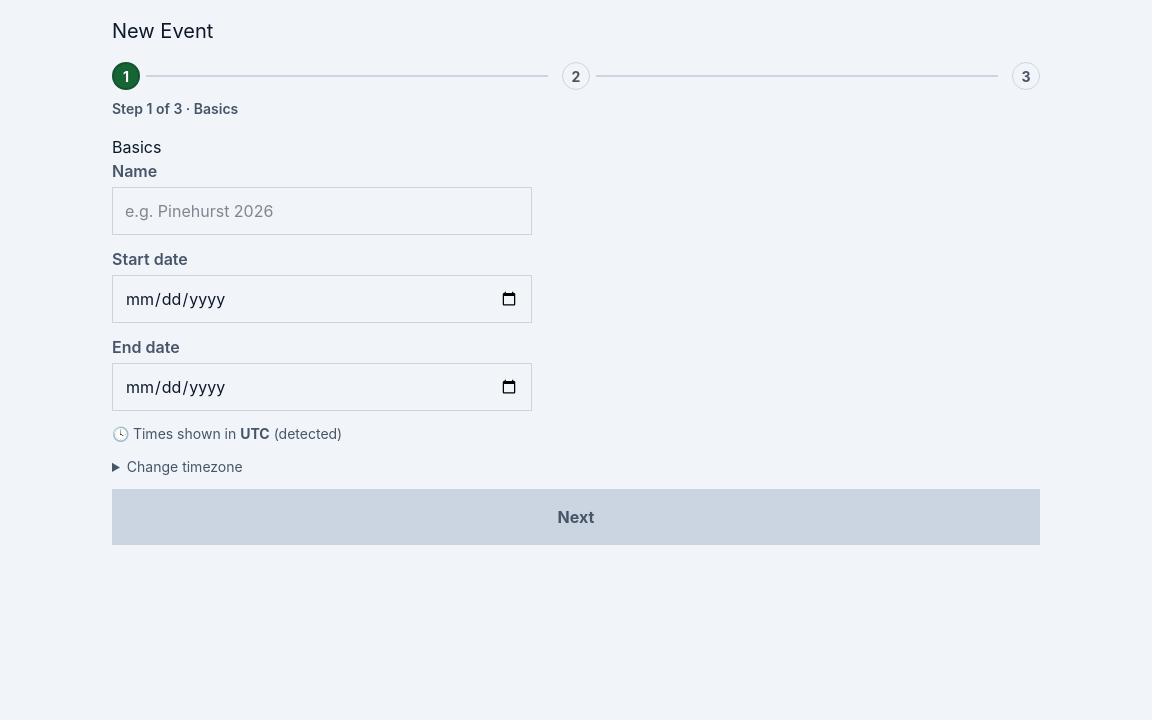
NewEventWizard › step transition: fill basics + click Next → step 2 visible; Back → step 1 with values preserved
The width and height of the screenshot is (1152, 720).
Type "Pinehurst 2026" into the field labelled "Name" at (322, 211), box [112,187,532,235]
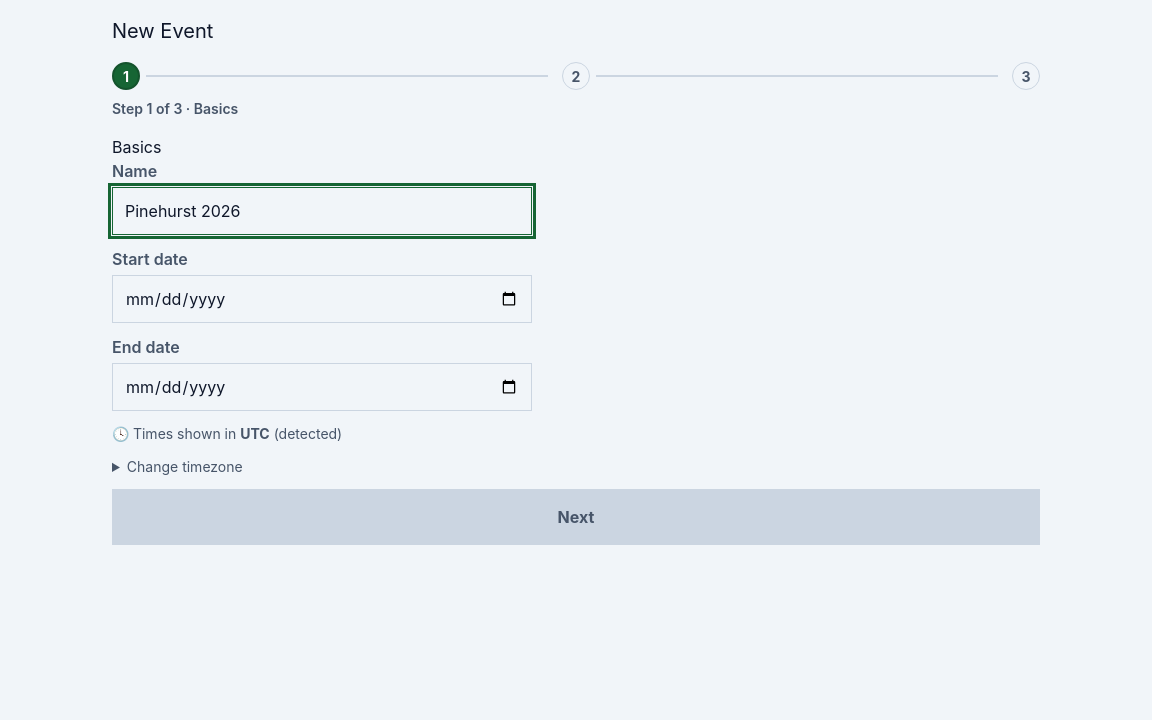
// Note: typing into a date input requires the YYYY-MM-DD format.
Type "2026-05-07" into the date field labelled "Start date" at (322, 299), box [112,275,532,323]
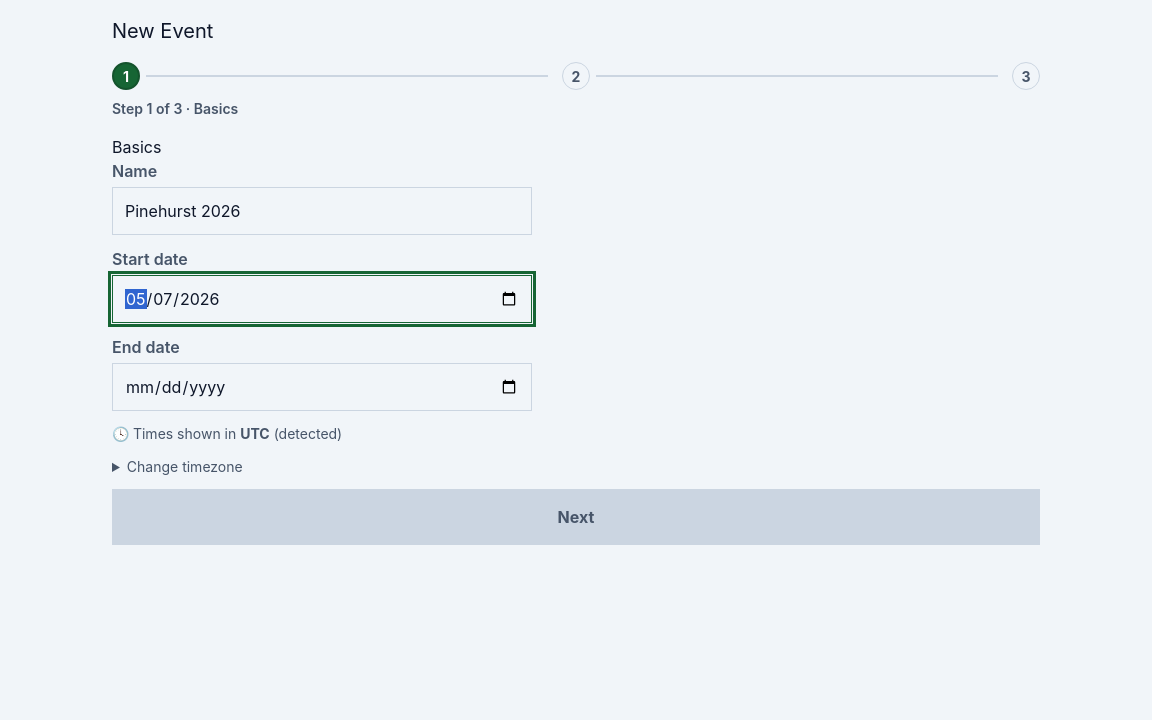
Type "2026-05-10" into the date field labelled "End date" at (322, 387), box [112,363,532,411]
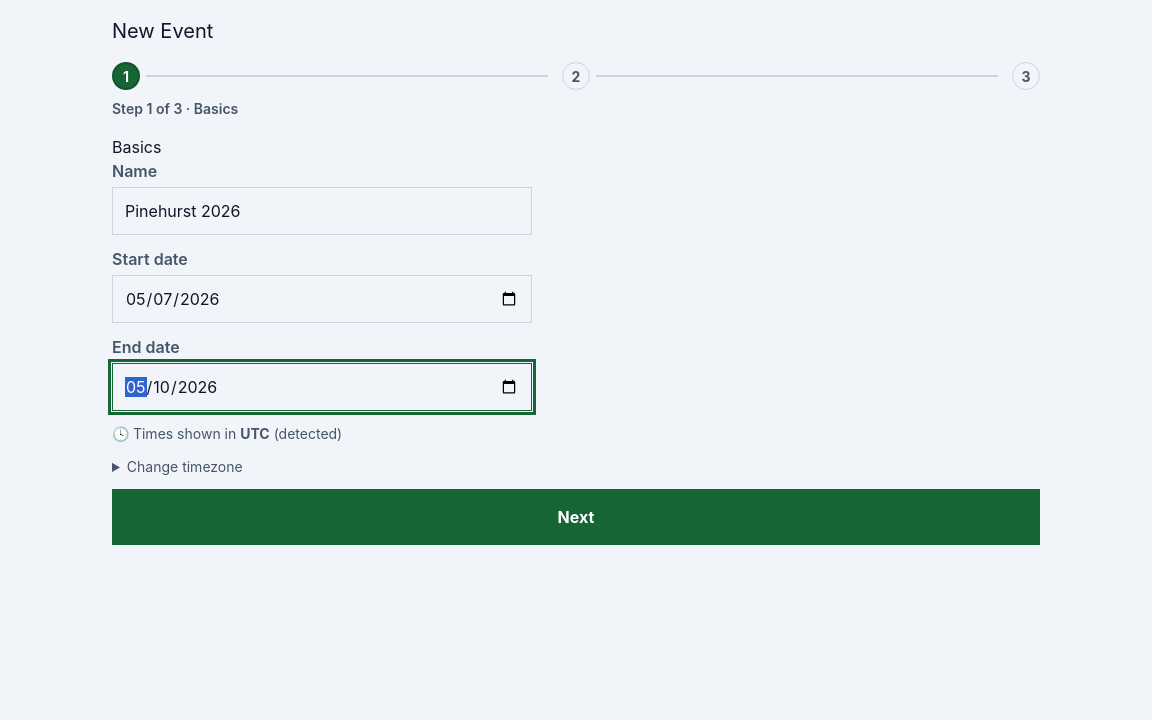
Expected: the button "Next" is enabled
Click the button "Next" at (576, 517), box [112,489,1040,545]
(page scrolled)
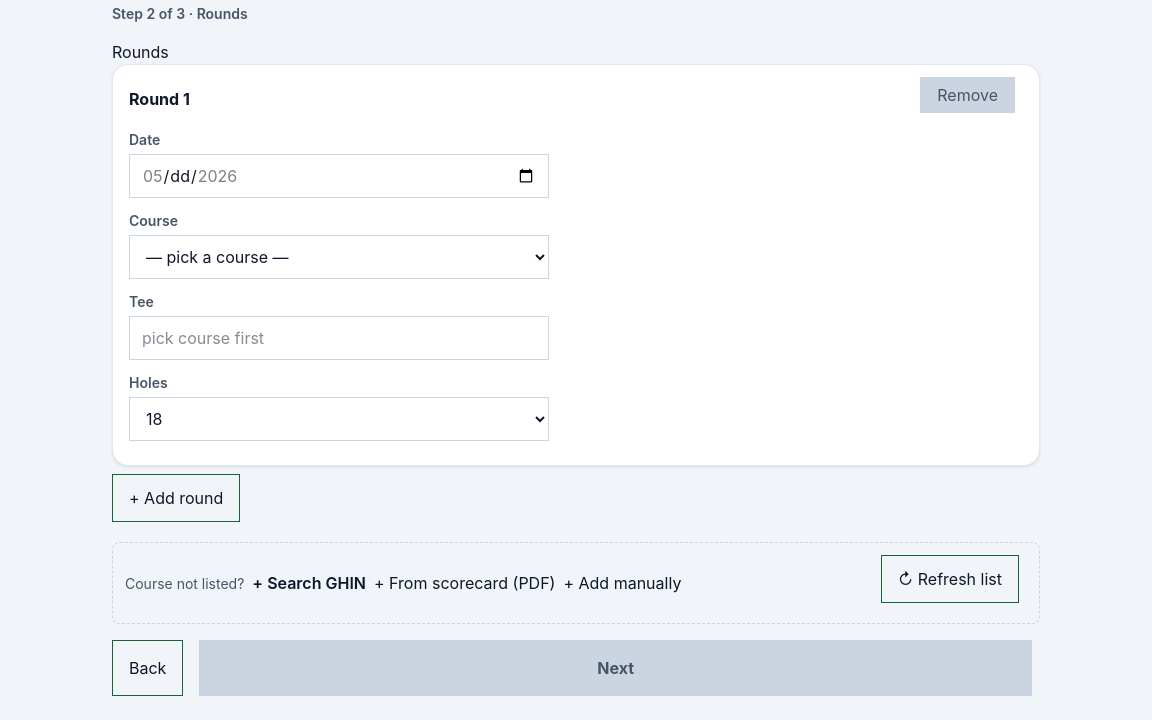
Expected: the text "Step 2 of 3 · Rounds" is shown, [112,5,248,22]
Expected: the heading "Rounds" is shown, [112,42,169,62]
Expected: the text "Course not listed?" is shown, [125,572,244,594]
// Back returns to step 1 with values preserved
Click the button "Back" at (148, 668), box [112,640,183,696]
(page scrolled)
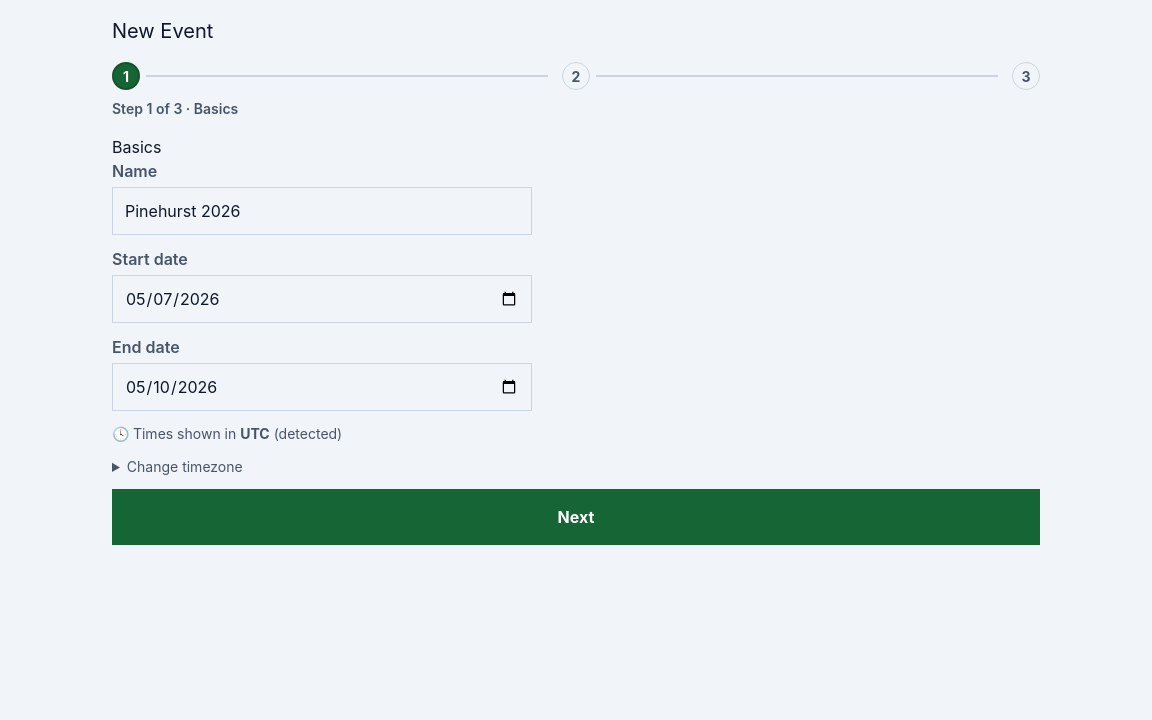
Expected: the text "Step 1 of 3 · Basics" is shown, [112,100,238,117]
Expected: the field labelled "Name" holds "Pinehurst 2026", [112,187,532,235]
